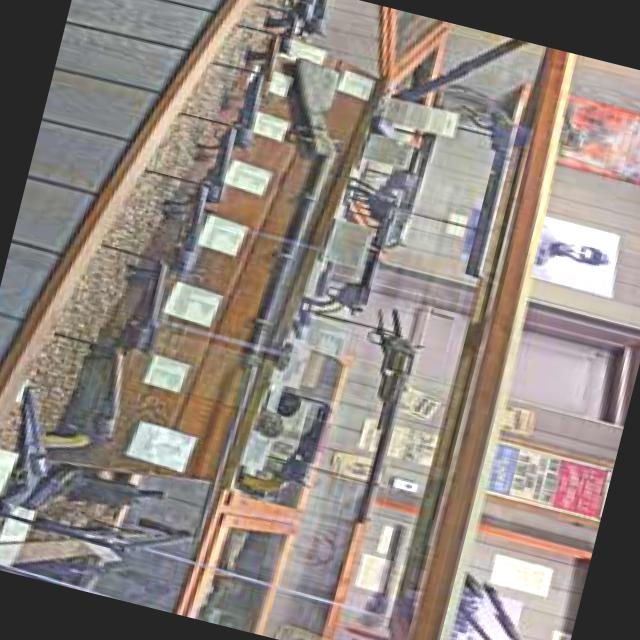handgun: (18, 320, 167, 470), (87, 167, 240, 290), (64, 238, 199, 371), (137, 110, 277, 232), (291, 220, 418, 344), (173, 57, 284, 172)
